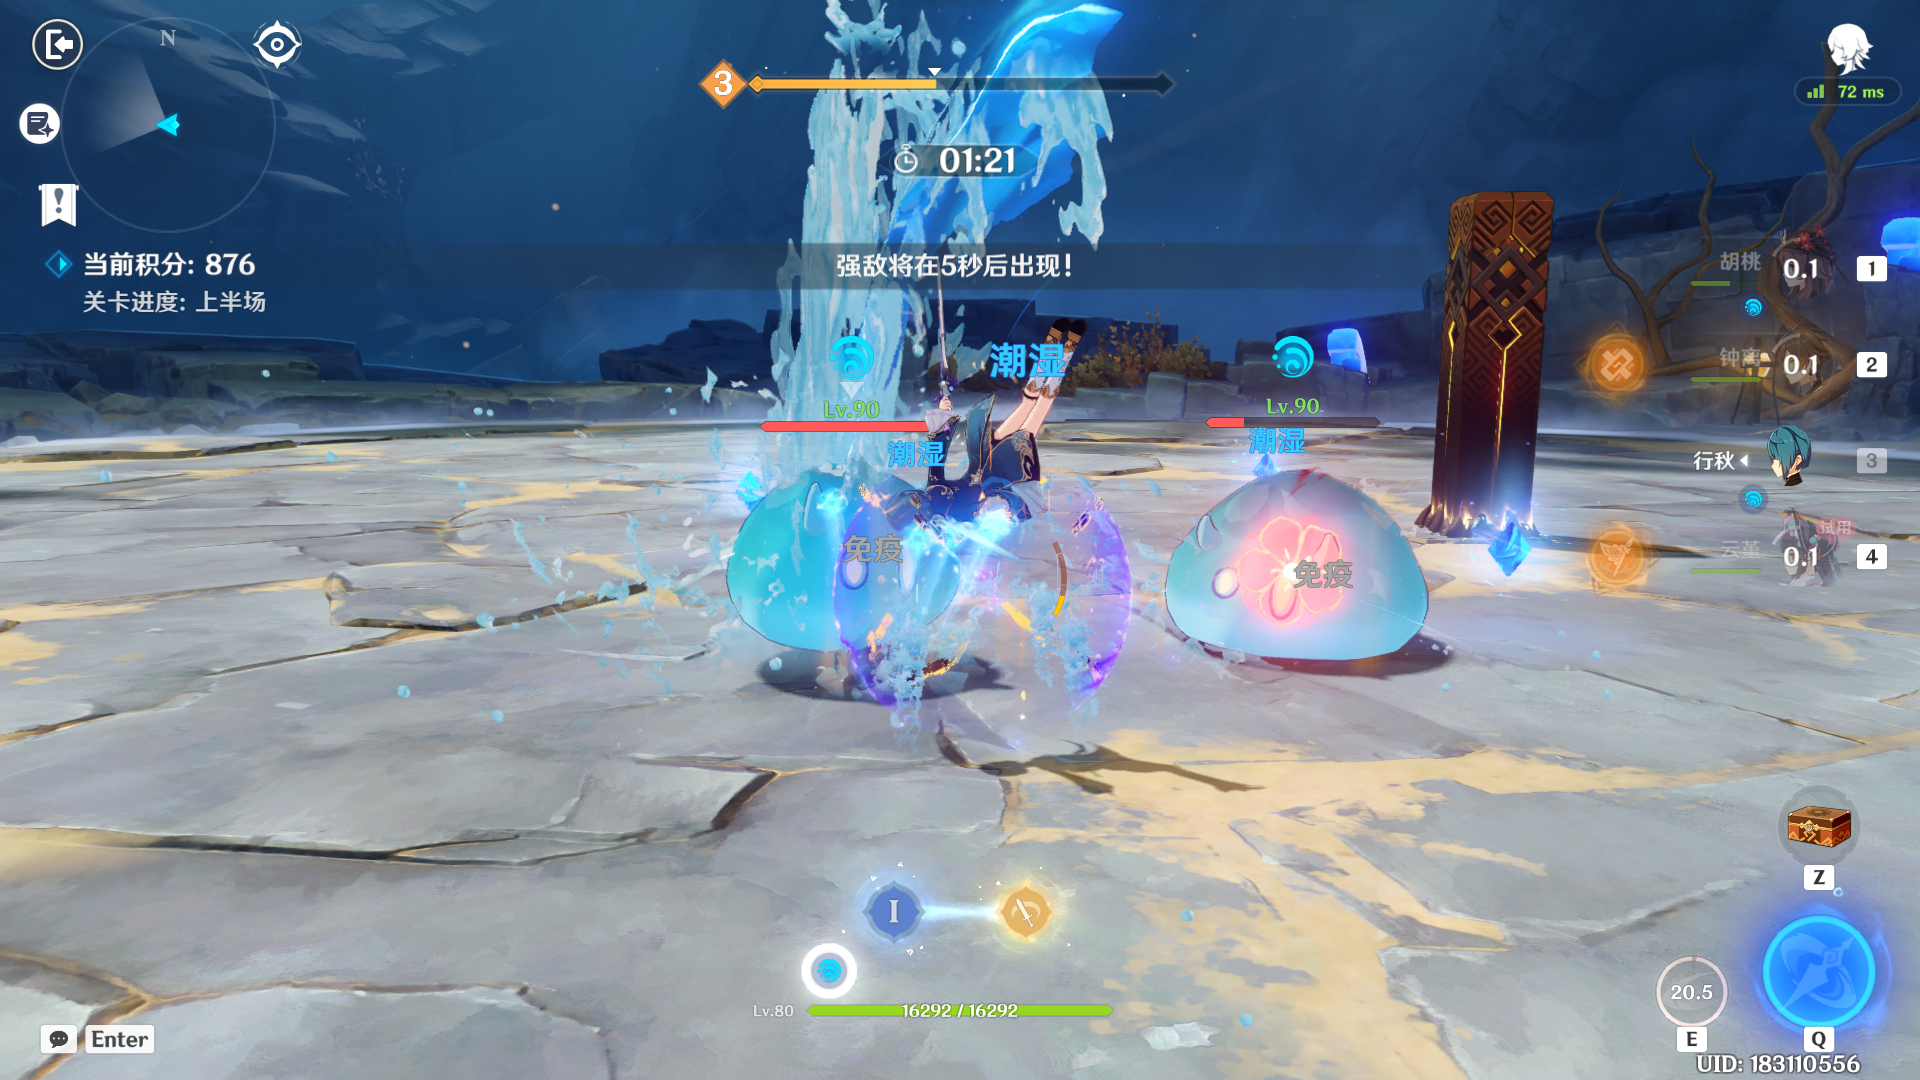slime: (1145, 435, 1451, 713), (711, 454, 949, 674)
